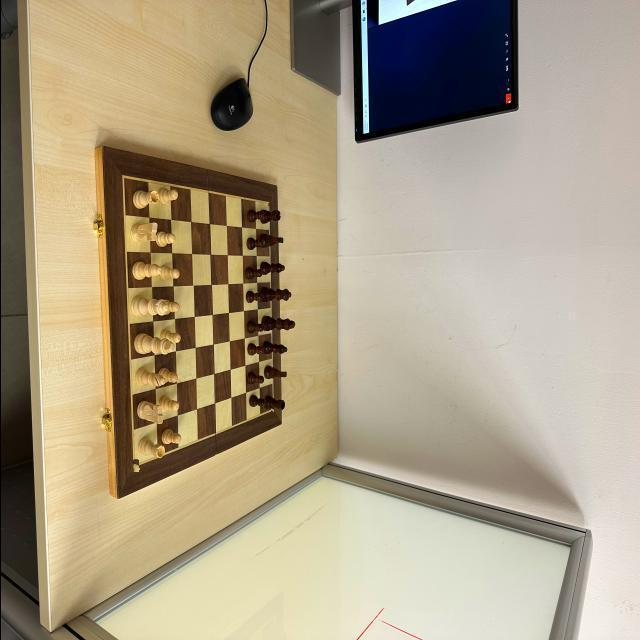chess-table-corners: (129, 460, 138, 472), (120, 171, 126, 184), (266, 198, 270, 206), (270, 408, 274, 412)
